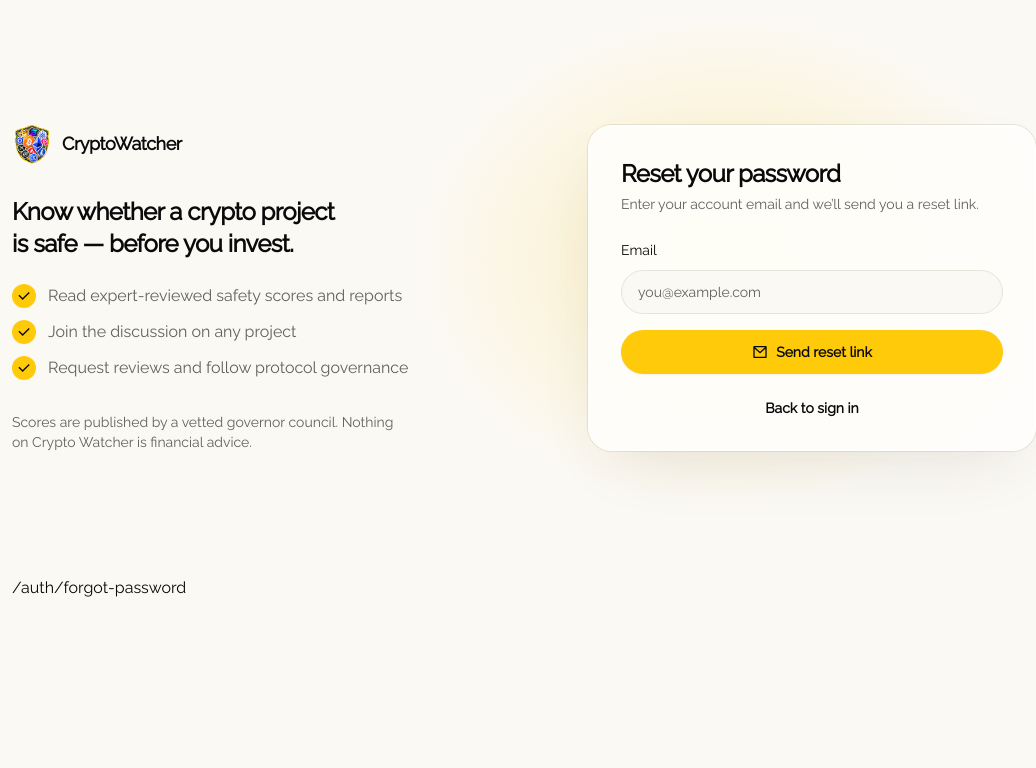
Test: ForgotPasswordPage › confirms without revealing whether the account exists
This screenshot has width=1036, height=768.
Type "ada@example.com" into the field labelled "Email" at x=812, y=292, box left=621, top=270, right=1003, bottom=314
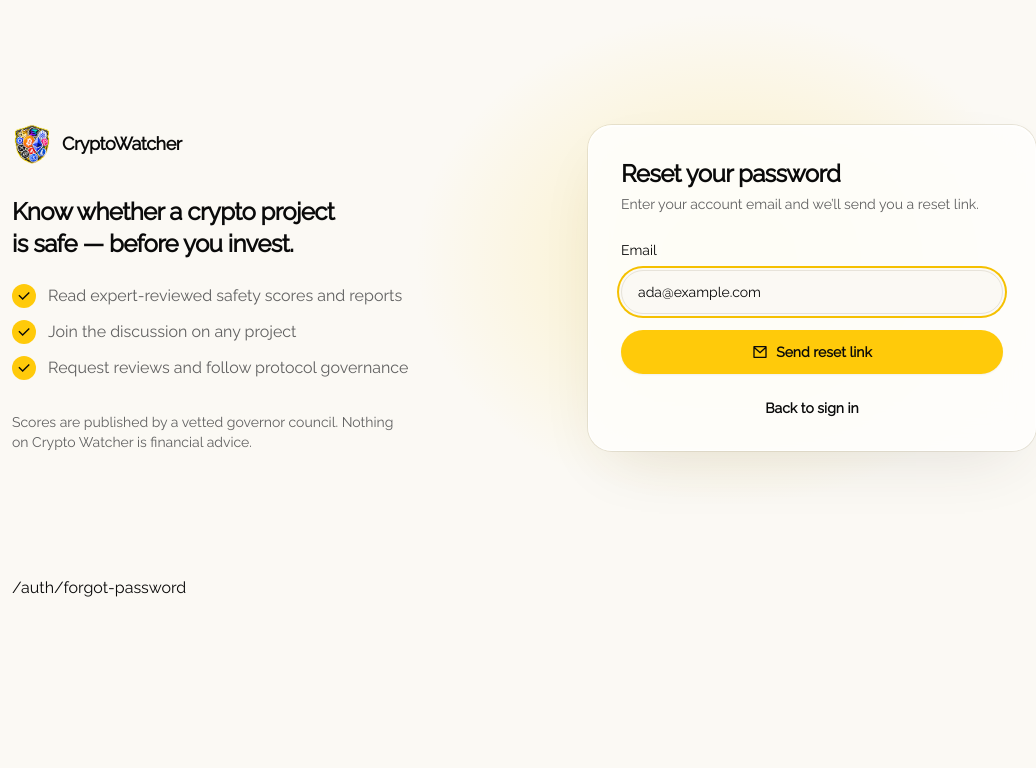
Click the button "Send reset link" at x=812, y=352, box left=621, top=330, right=1003, bottom=374
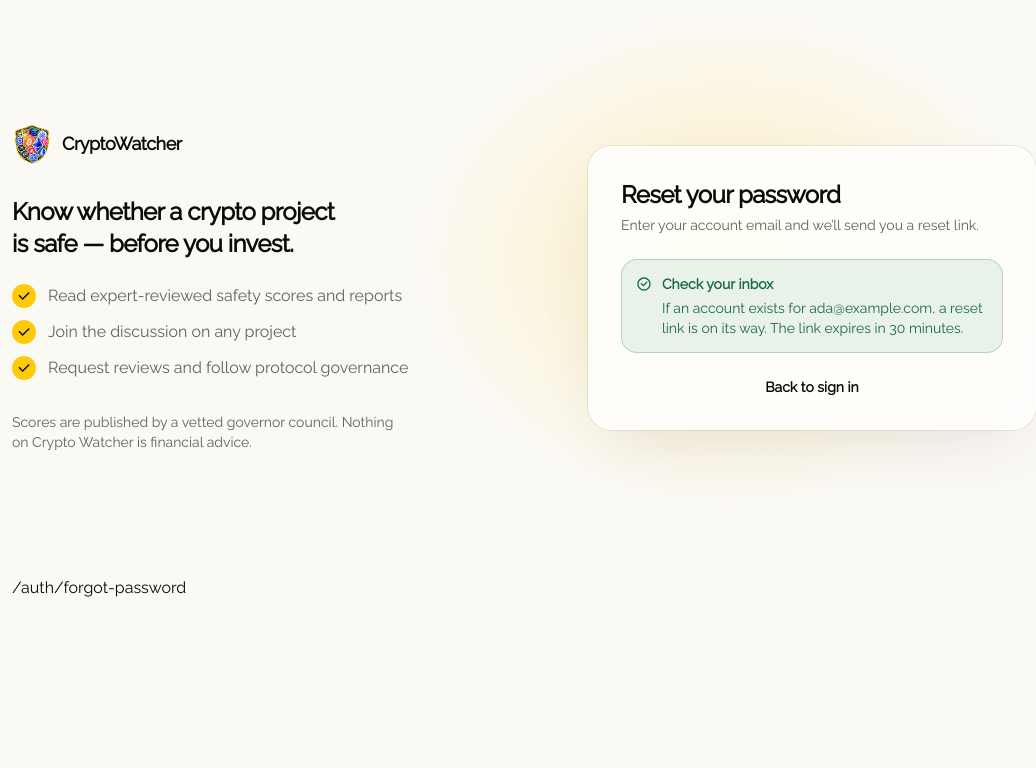
Now the message shows "If an account exists for ada@example.com", box left=621, top=259, right=1003, bottom=353
Now the message shows "expires in 30 minutes", box left=621, top=259, right=1003, bottom=353
